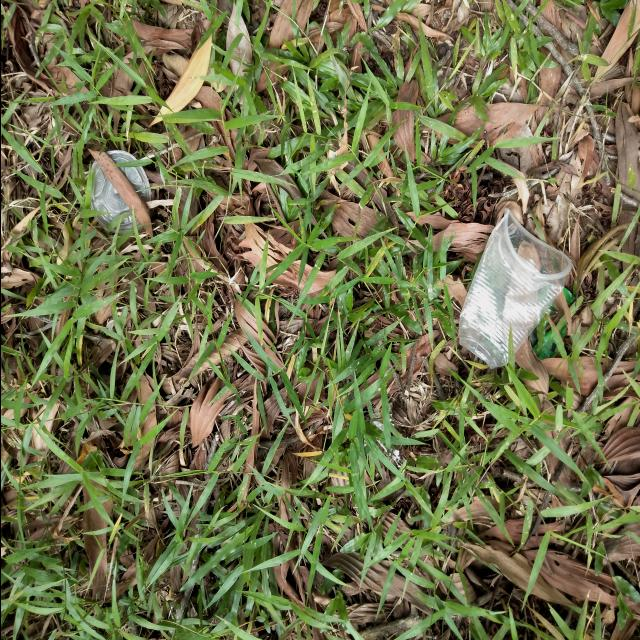Disposable plastic cup: (458, 207, 571, 370)
Other plastic: (538, 287, 574, 360)
